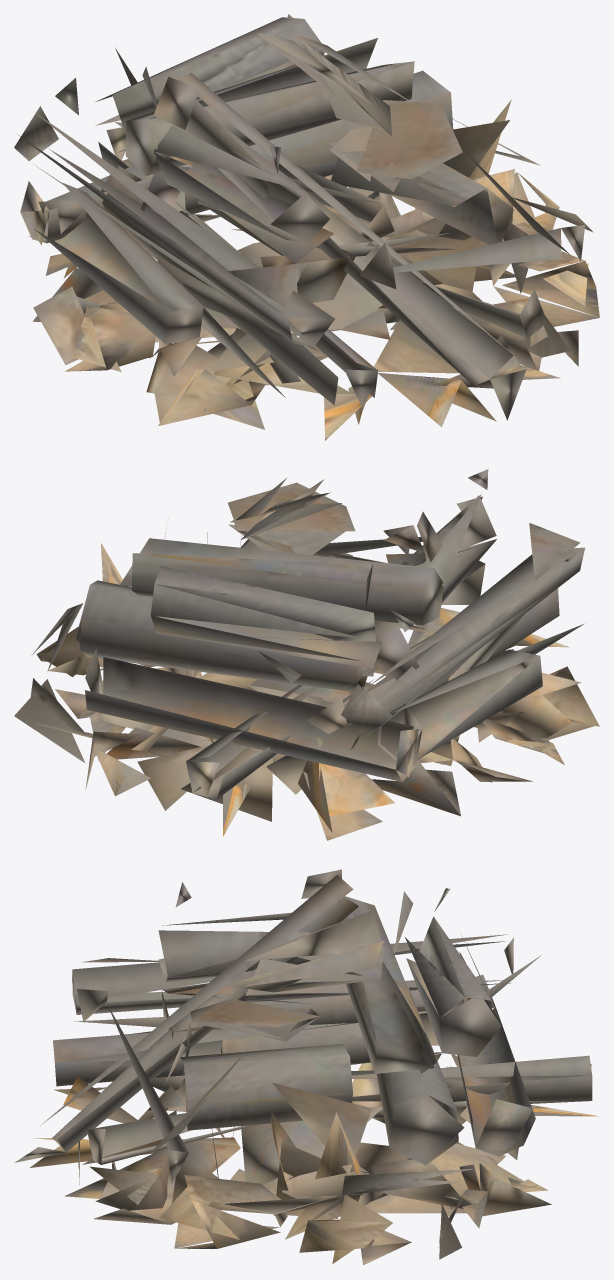
Rendered from salvage-driftwood.lod1.glb.
The picture shows the model from 3 angles, top to bottom: view 1: azimuth 30°, elevation 25°; view 2: azimuth 150°, elevation 25°; view 3: azimuth 270°, elevation 25°; orthographic projection. The views are drawn at different scales.
Parts seen in each view (by area): view 1: salvage-driftwood_lod1; view 2: salvage-driftwood_lod1; view 3: salvage-driftwood_lod1.
Part boxes in pixels (x1,y1,x2,y2): salvage-driftwood_lod1: [14, 14, 599, 440]; salvage-driftwood_lod1: [14, 469, 599, 840]; salvage-driftwood_lod1: [14, 869, 598, 1265].
Size of the model in its own units: 0.8027 by 0.4324 by 0.8693.
Materials: 1 (1 with a texture image).
